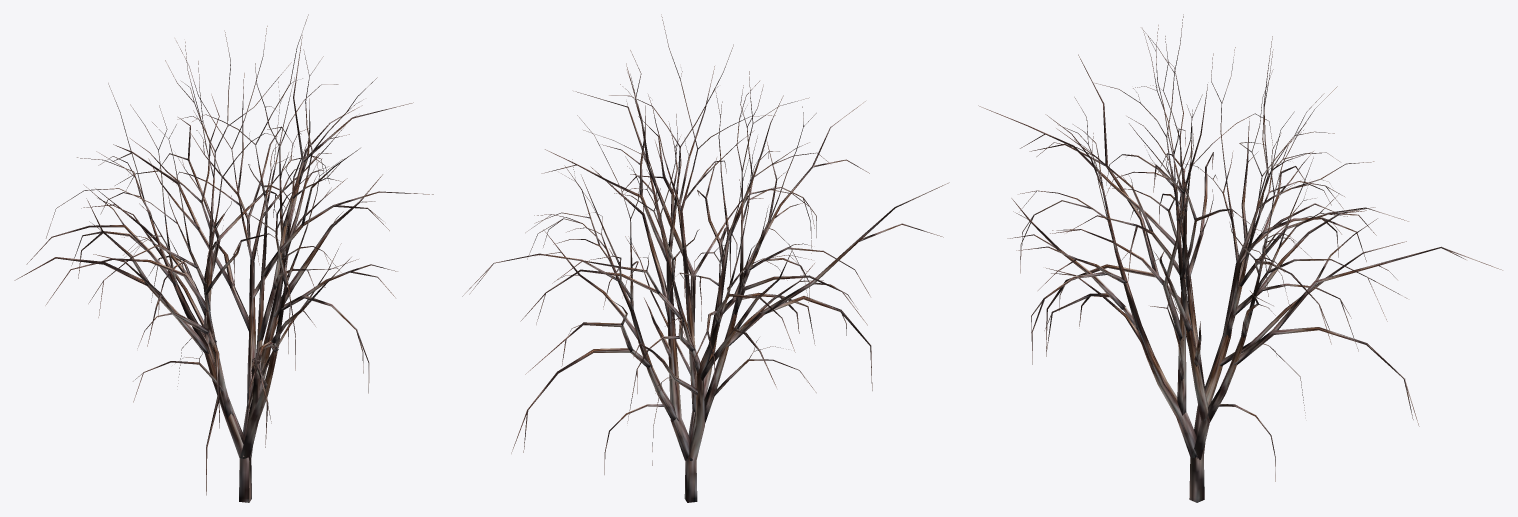
File: Tree 1.fbx
3 renders of one model, left to right at view 1: azimuth 30°, elevation 25°; view 2: azimuth 150°, elevation 25°; view 3: azimuth 270°, elevation 25°, orthographic. The views are drawn at different scales.
Parts seen in each view (by area): view 1: Tree 1; view 2: Tree 1; view 3: Tree 1.
Part boxes in pixels (x1=…): Tree 1: x1=14, y1=14, x2=433, y2=502; Tree 1: x1=462, y1=14, x2=949, y2=502; Tree 1: x1=978, y1=14, x2=1502, y2=502.
Size of the model in its own units: 545 by 707 by 691.
1 material, 1 textured.
